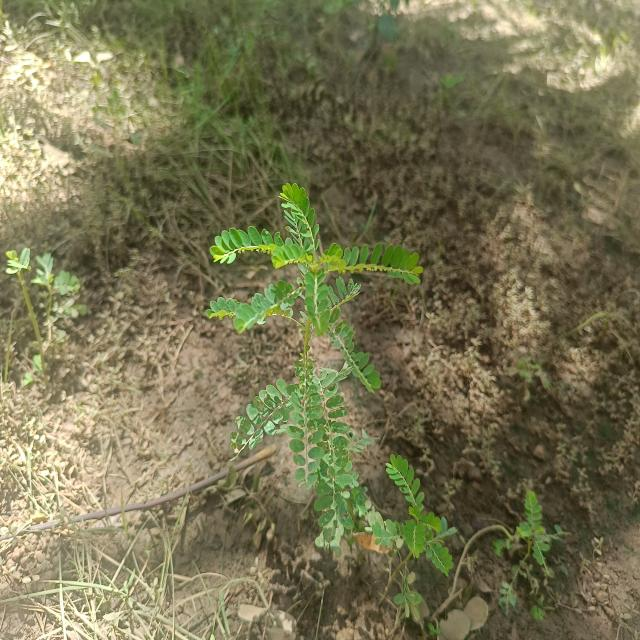weed: (196, 189, 434, 546), (363, 454, 470, 580), (495, 488, 558, 619)
